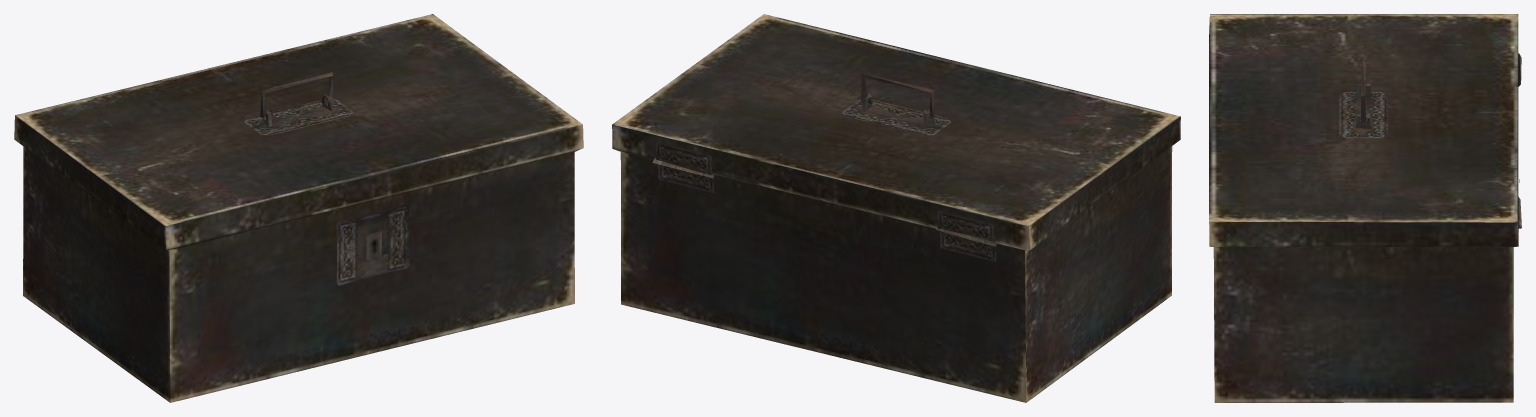
File: box-wooden.lod1.glb
3 renders of one model, left to right at view 1: azimuth 30°, elevation 25°; view 2: azimuth 150°, elevation 25°; view 3: azimuth 270°, elevation 25°, orthographic. The views are drawn at different scales.
Parts seen in each view (by area): view 1: box-wooden; view 2: box-wooden; view 3: box-wooden.
Boxes of the visible parts, x1,y1,x2,y2 form: box-wooden: (14,14,583,402); box-wooden: (612,14,1180,402); box-wooden: (1209,14,1521,402).
Size of the model in its own units: 0.5077 by 0.2538 by 0.3219.
1 material, 1 textured.
